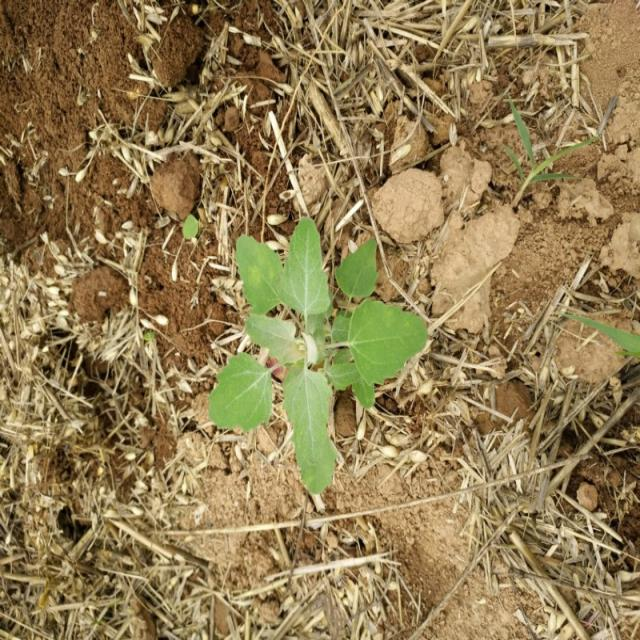ca: (212, 224, 424, 489)
